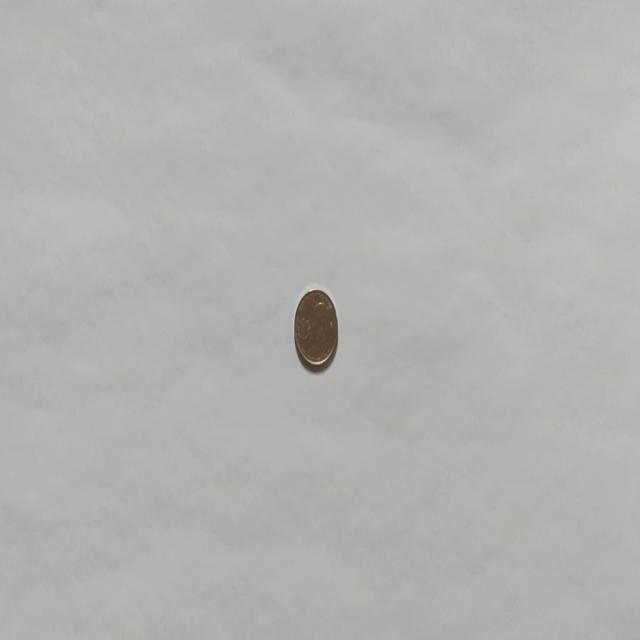seribu rupiah koin: (292, 284, 338, 372)
